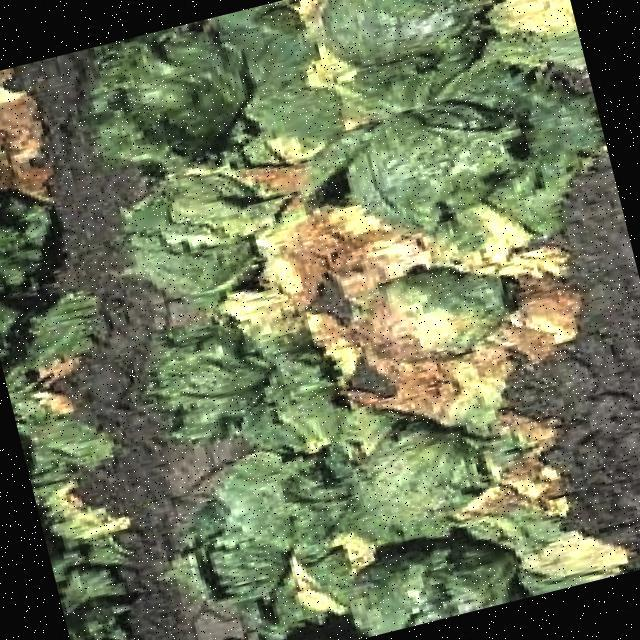Septoria_Blight: (252, 170, 584, 434)
